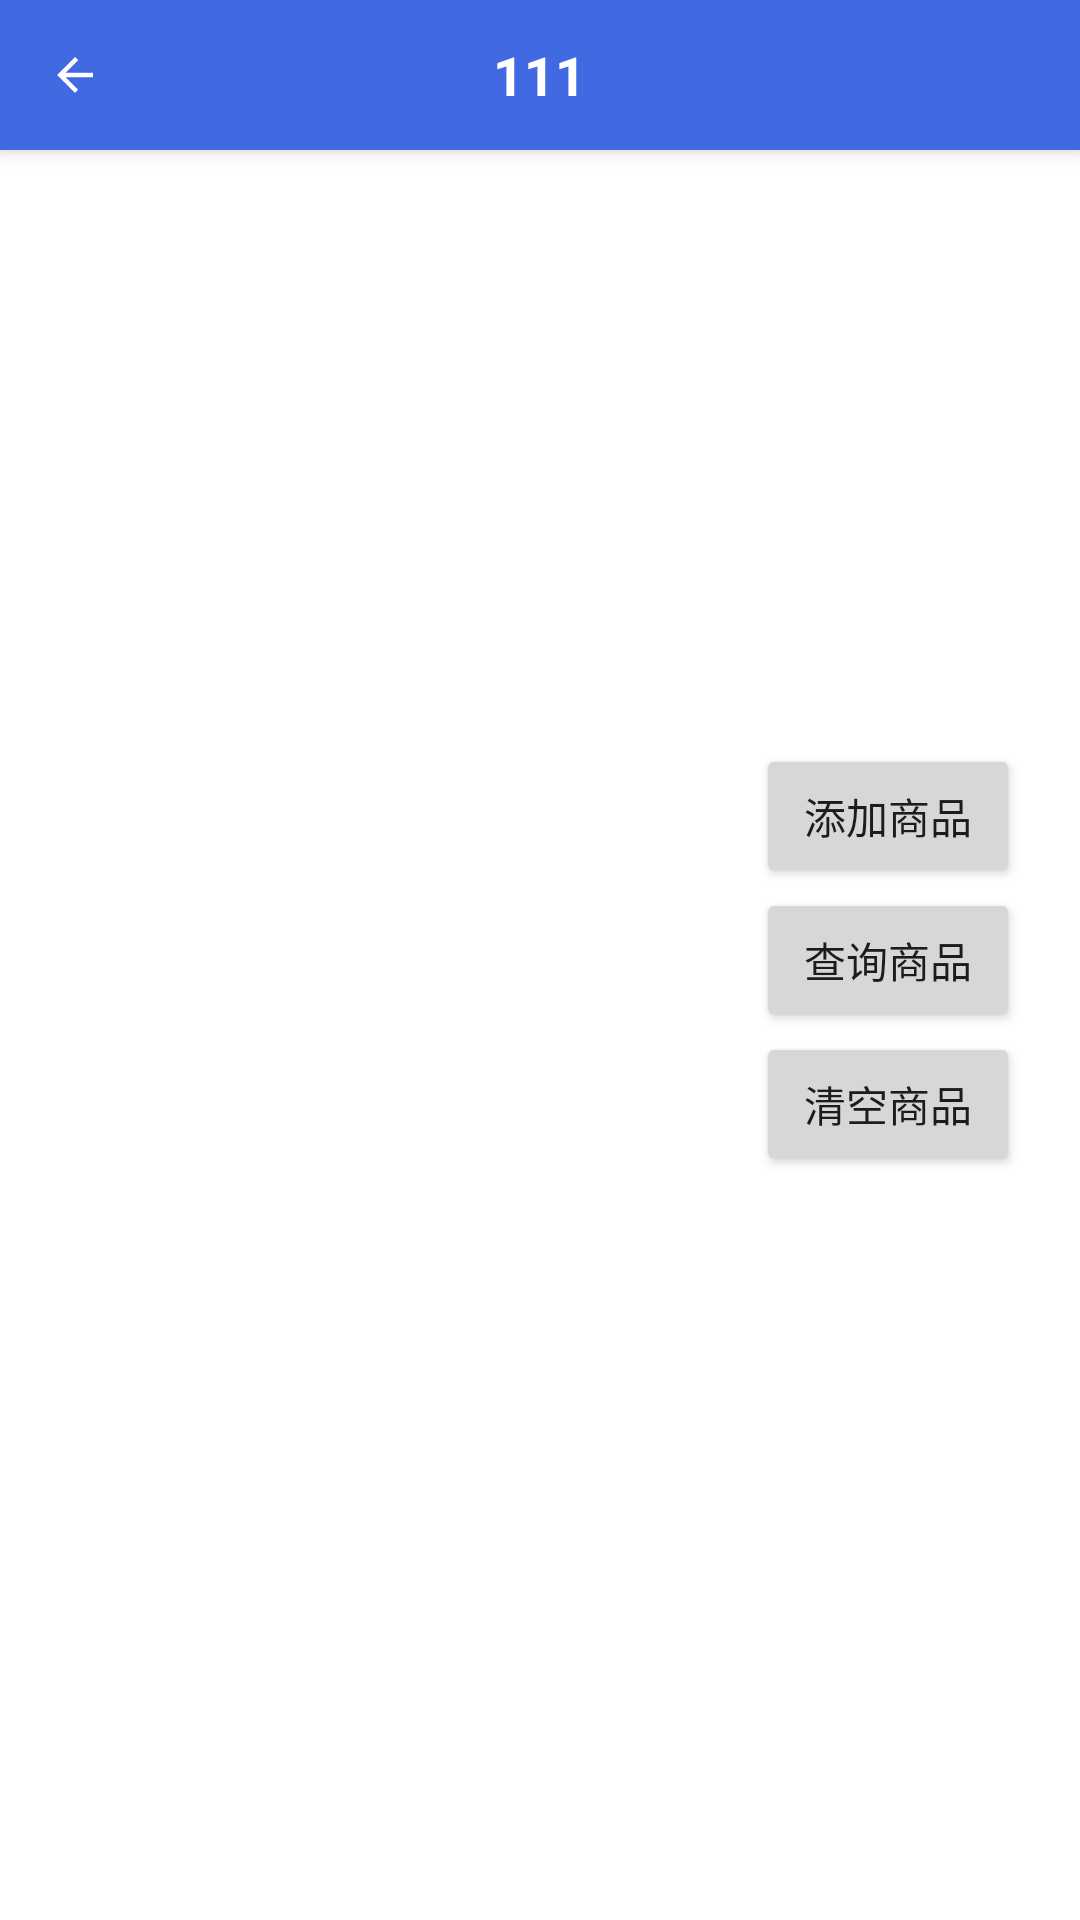

Screen size 1080px x 1920px. Icon name, then its box in pixels as (x1=x1, y1=y1, x2=x2, y2=y2):
back arrow: (x1=57, y1=57, x2=93, y2=93)
